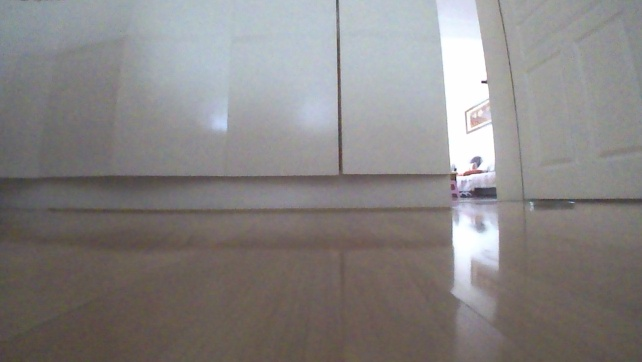door_anno: (472, 0, 641, 208)
